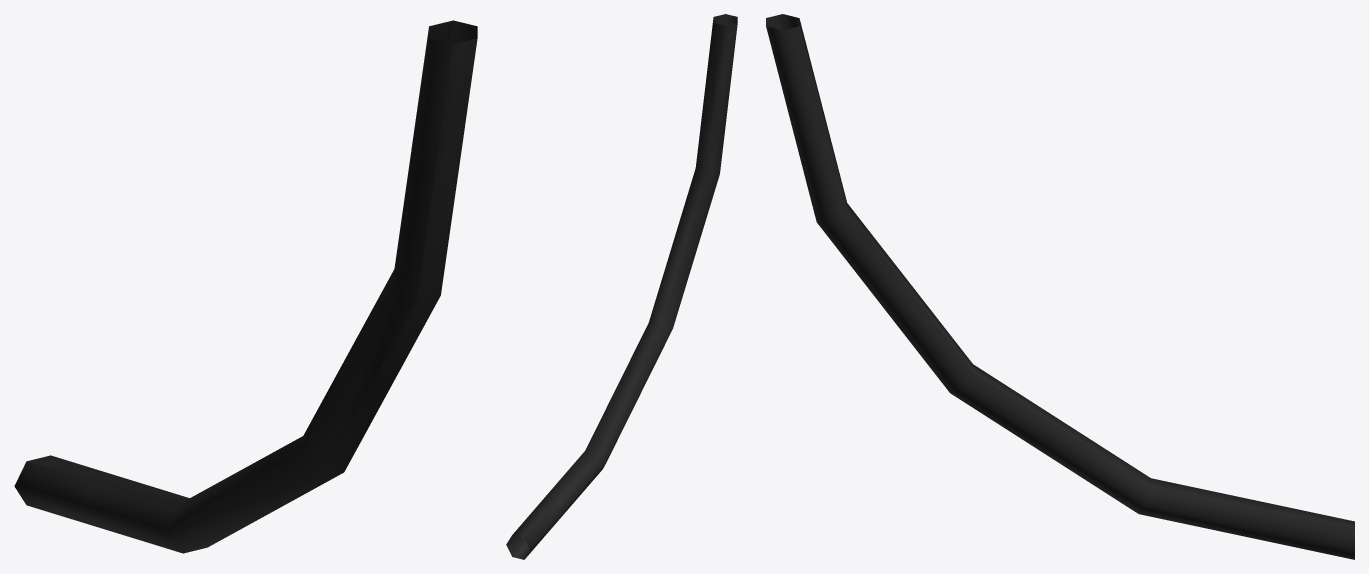
The model's file is electrical_bend_small.dae.
3 renders of one model, left to right at view 1: azimuth 30°, elevation 25°; view 2: azimuth 150°, elevation 25°; view 3: azimuth 270°, elevation 25°, orthographic. The views are drawn at different scales.
Parts seen in each view (by area): view 1: Mesh; view 2: Mesh; view 3: Mesh.
Boxes of the visible parts, x1,y1,x2,y2 form: Mesh: (14, 20, 477, 553); Mesh: (506, 14, 737, 559); Mesh: (766, 14, 1354, 559).
Size of the model in its own units: 0.0169 by 0.2573 by 0.2573.
